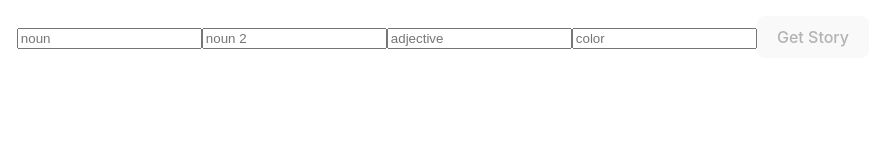
Test: enables submit button when all fields are filled
The image size is (886, 160).
Type "dog" into the field with placeholder "noun" at (109, 38), box [17,28,202,49]
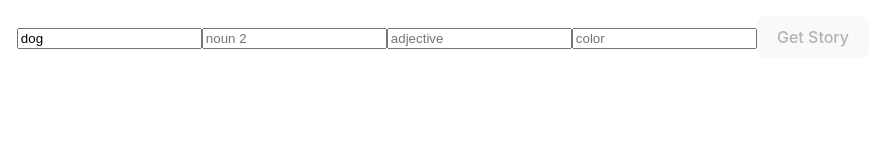
Type "cat" into the field with placeholder "noun 2" at (294, 38), box [202,28,387,49]
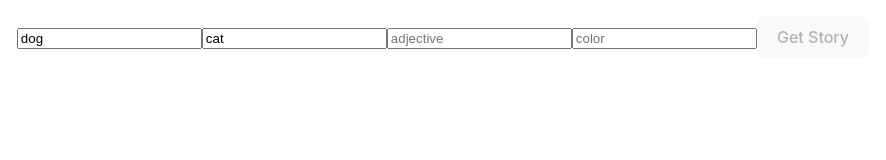
Type "happy" into the field with placeholder "adjective" at (479, 38), box [387,28,572,49]
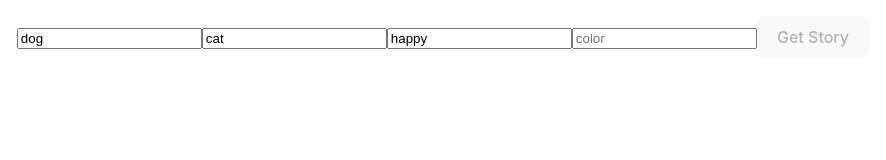
Type "blue" into the field with placeholder "color" at (664, 38), box [572,28,757,49]
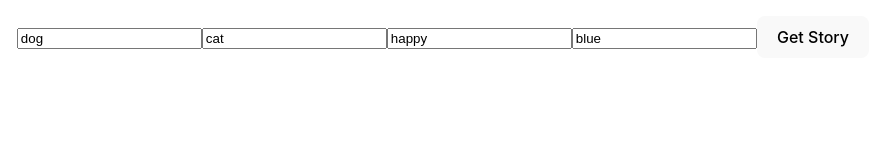
Expected: the button "Get Story" is enabled, [757,16,869,58]
